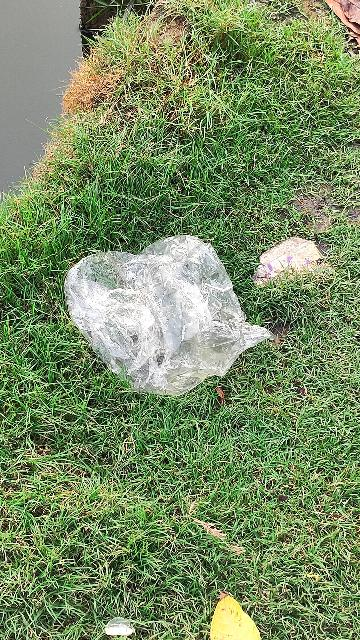polythene: (54, 211, 283, 418)
